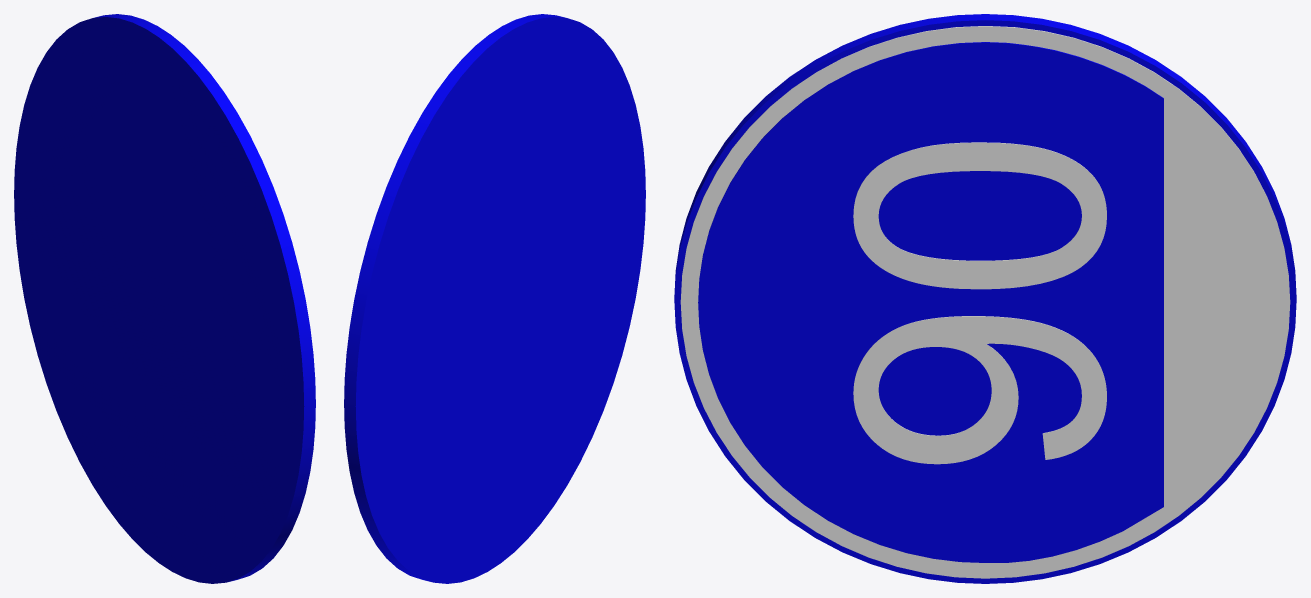
Rendered from 最低限速90.gltf.
3 renders of one model, left to right at view 1: azimuth 30°, elevation 25°; view 2: azimuth 150°, elevation 25°; view 3: azimuth 270°, elevation 25°, orthographic. The views are drawn at different scales.
Parts seen in each view (by area): view 1: 最低时速限制90; view 2: 最低时速限制90; view 3: 最低时速限制90.
Boxes of the visible parts, x1,y1,x2,y2 form: 最低时速限制90: (14,14,315,583); 最低时速限制90: (344,14,645,583); 最低时速限制90: (674,14,1296,583).
Size of the model in its own units: 0.0213 by 0.7691 by 0.7691.
